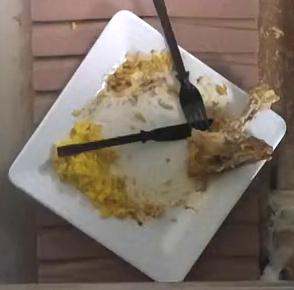rice: (53, 148, 133, 215)
